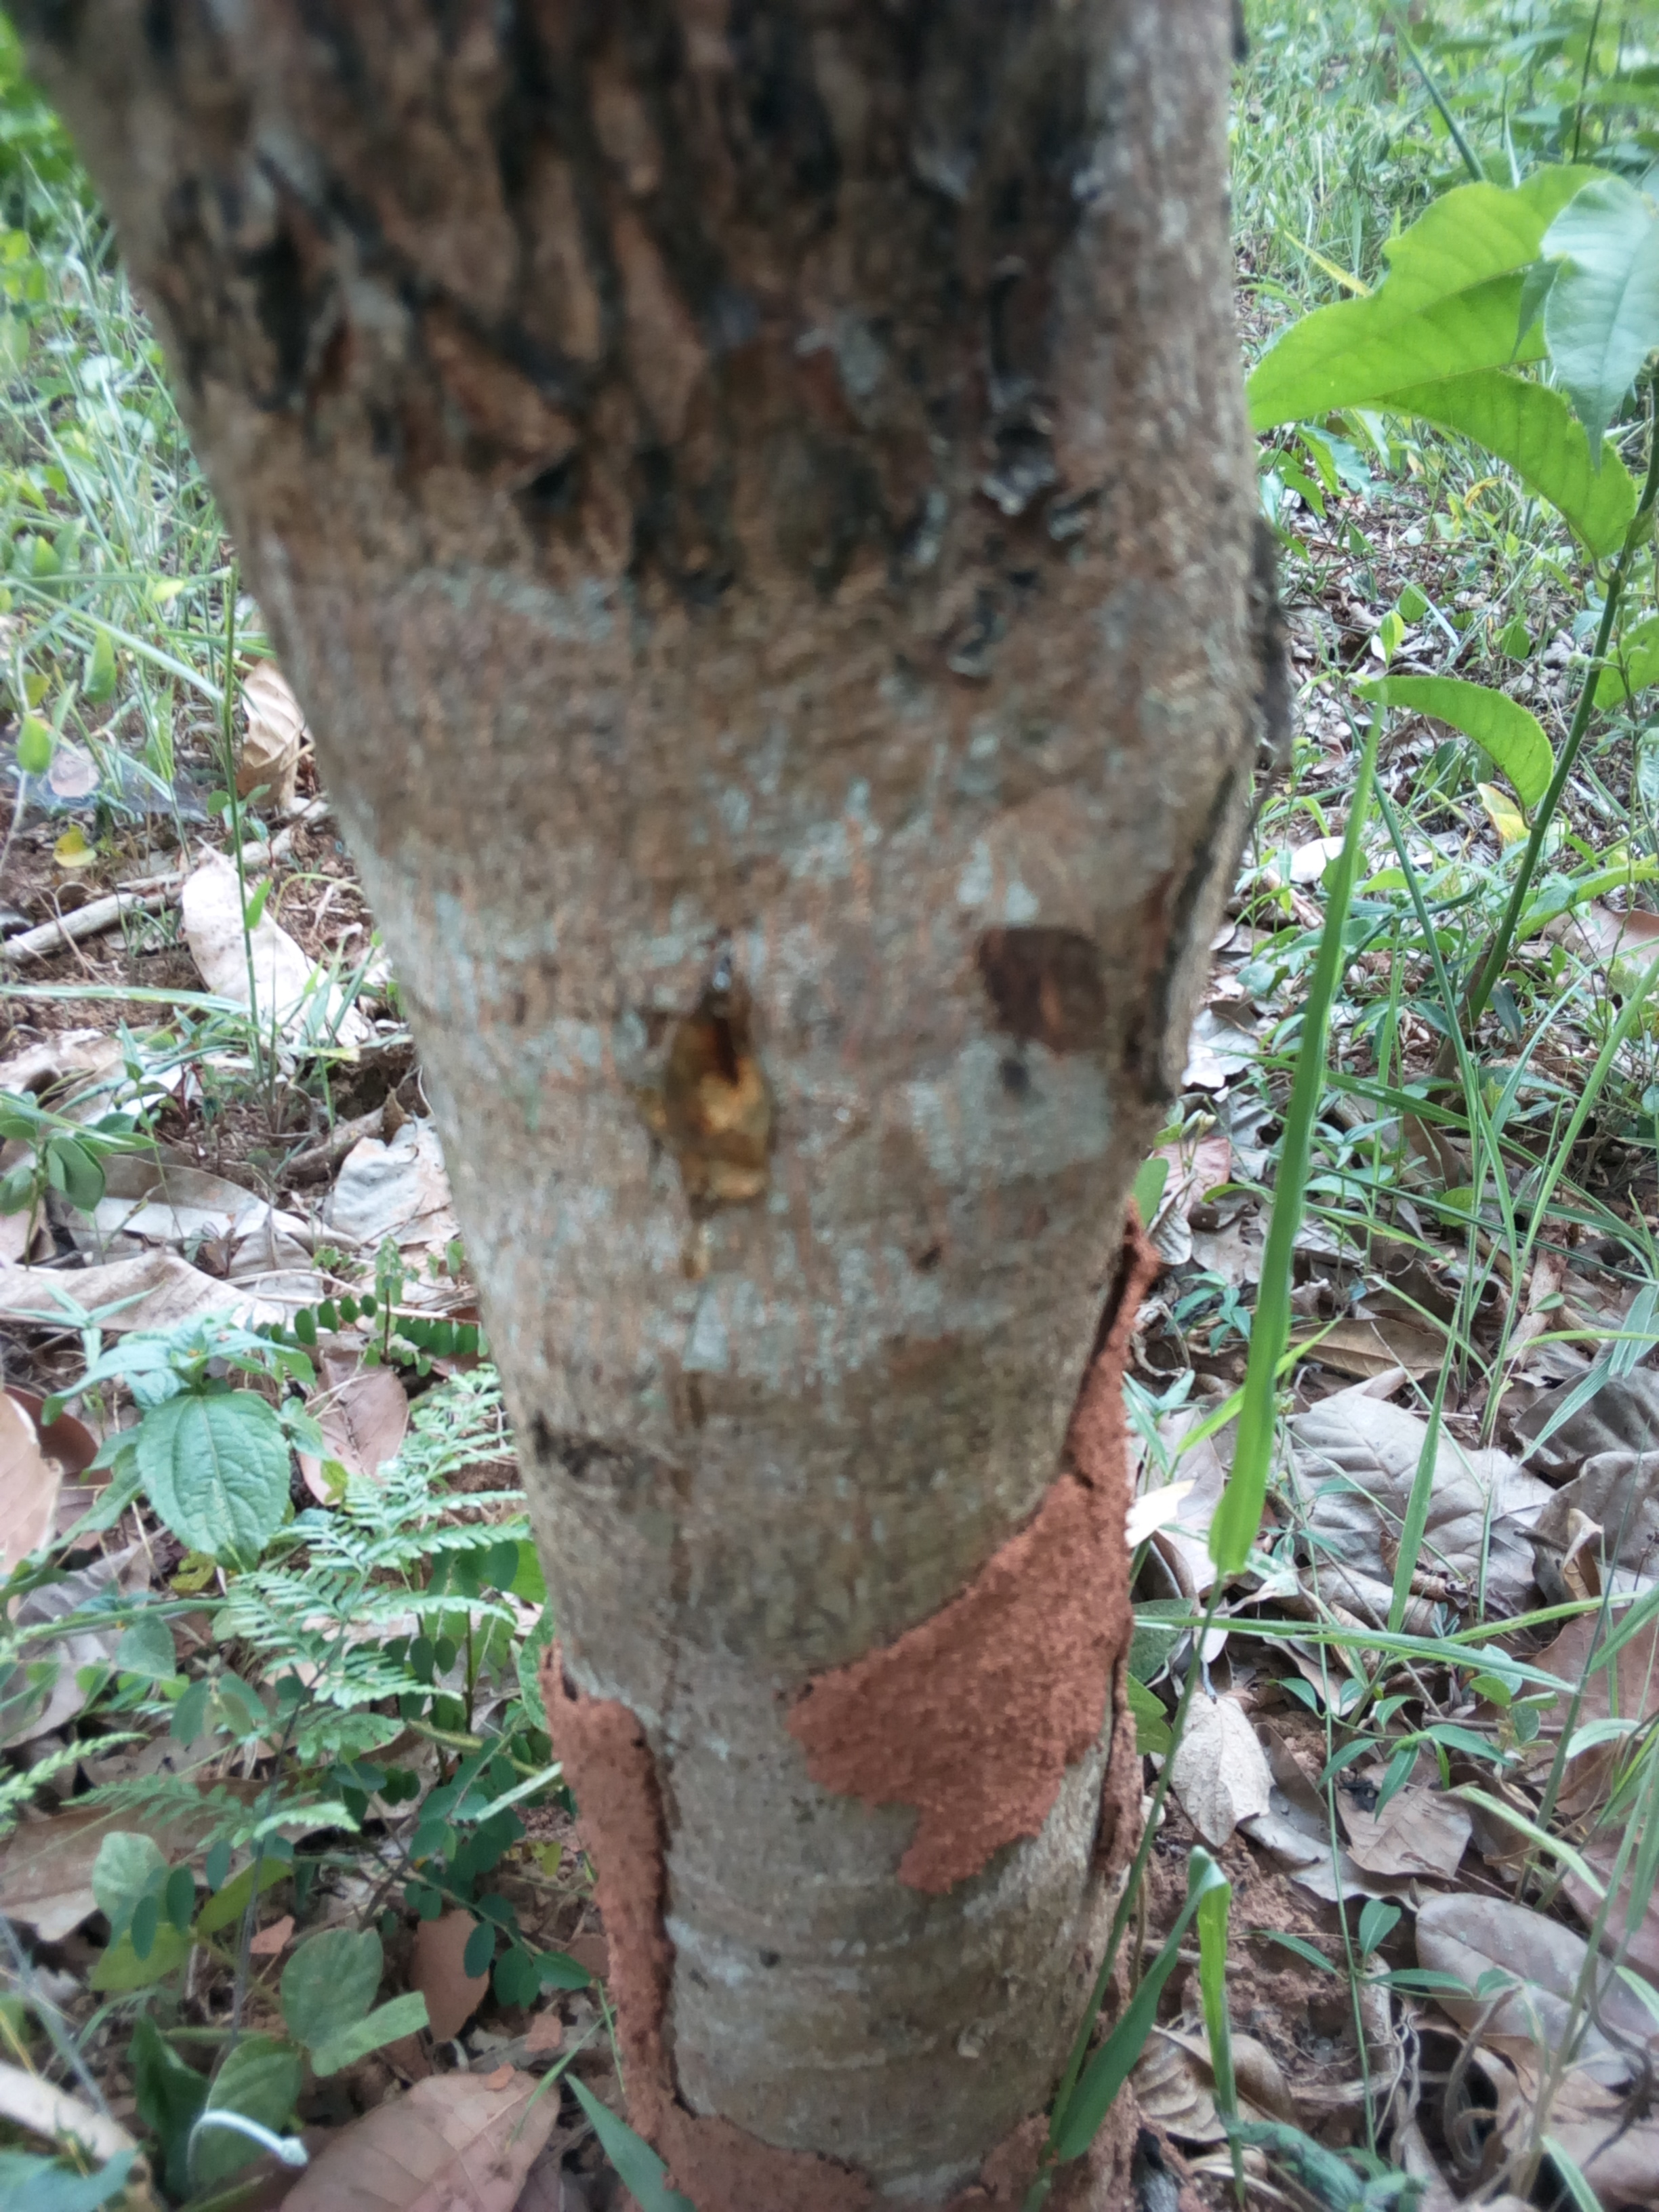Termites: (833, 1261, 1145, 1883), (552, 1658, 877, 2212)
